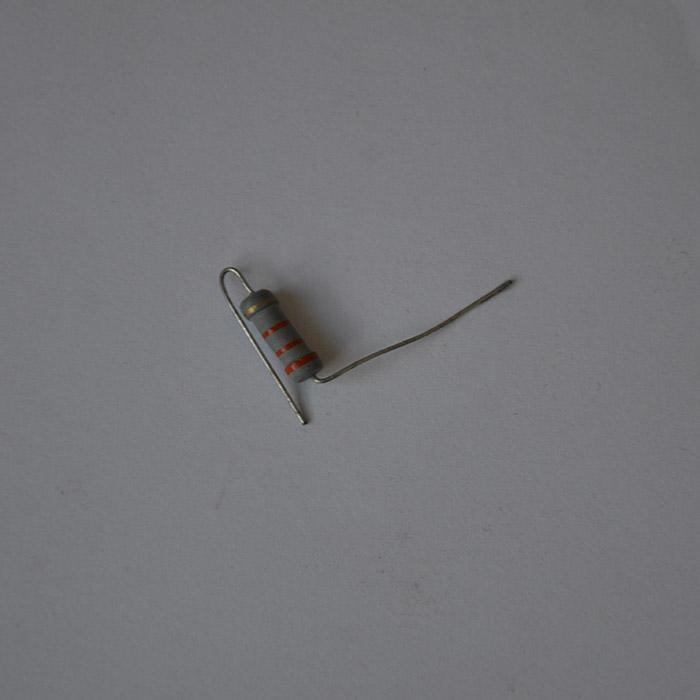resistor: (238, 286, 322, 383)
